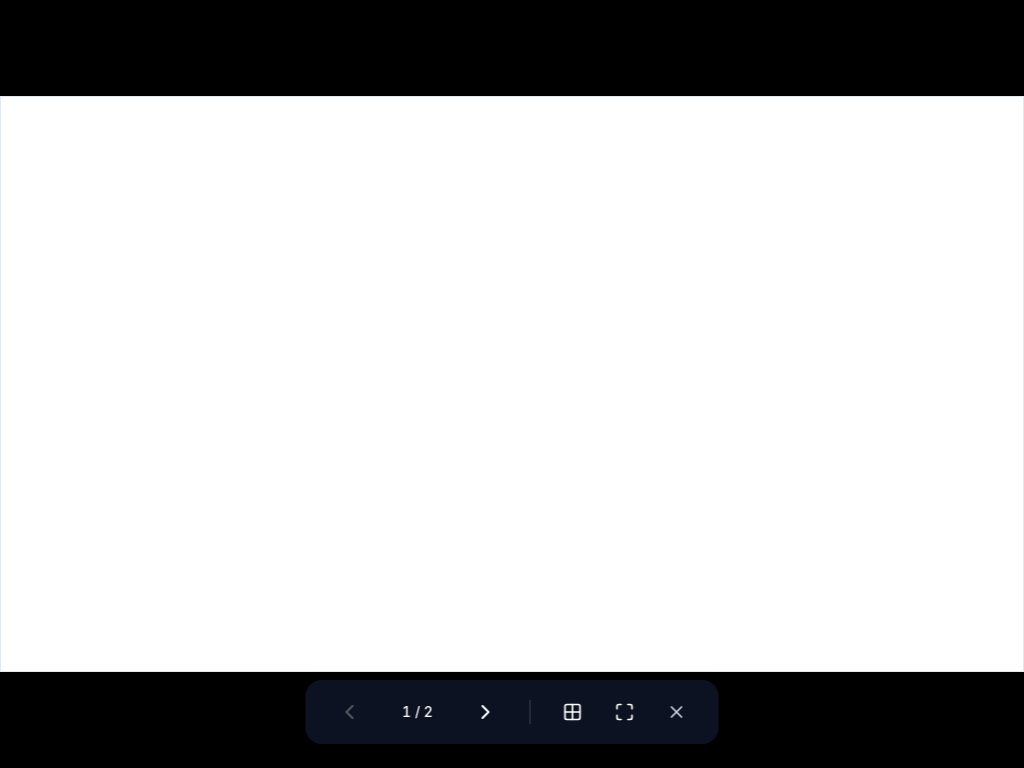
it: PresentationMode › opens the slide overview and navigates from it
Click the button named "Open slide overview" at point(572, 712), box [554,694,590,730]
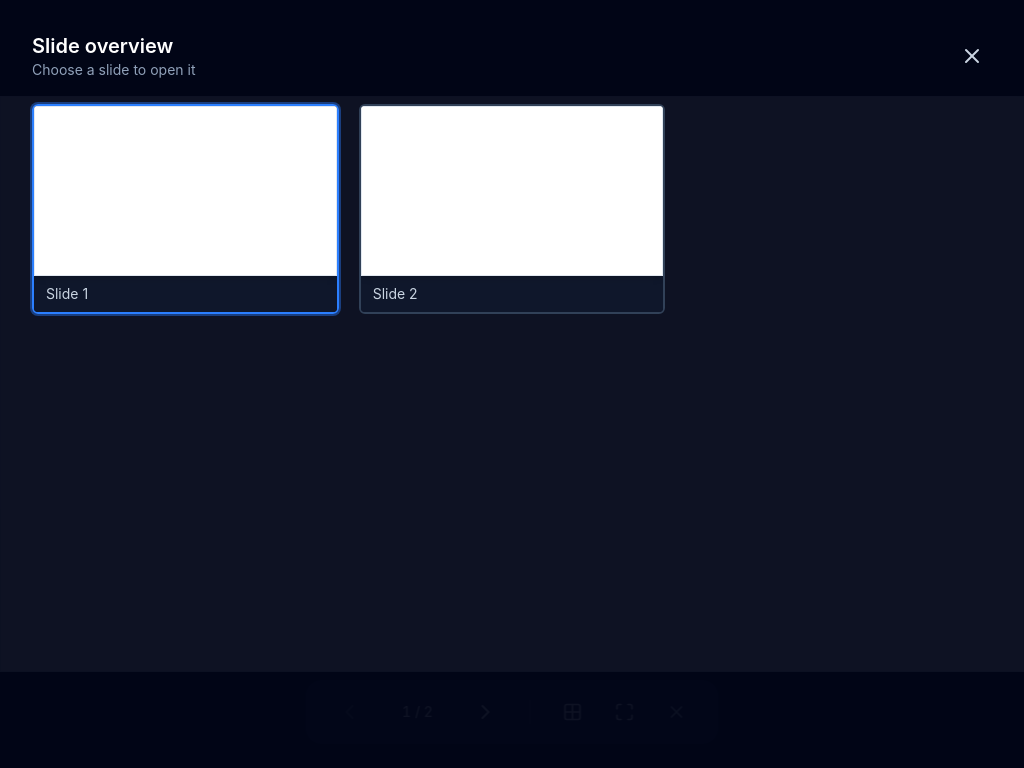
Now the dialog "Slide overview" is shown
Click the button with aria-label "Open slide 2" at point(512, 209), box [359,104,665,314]
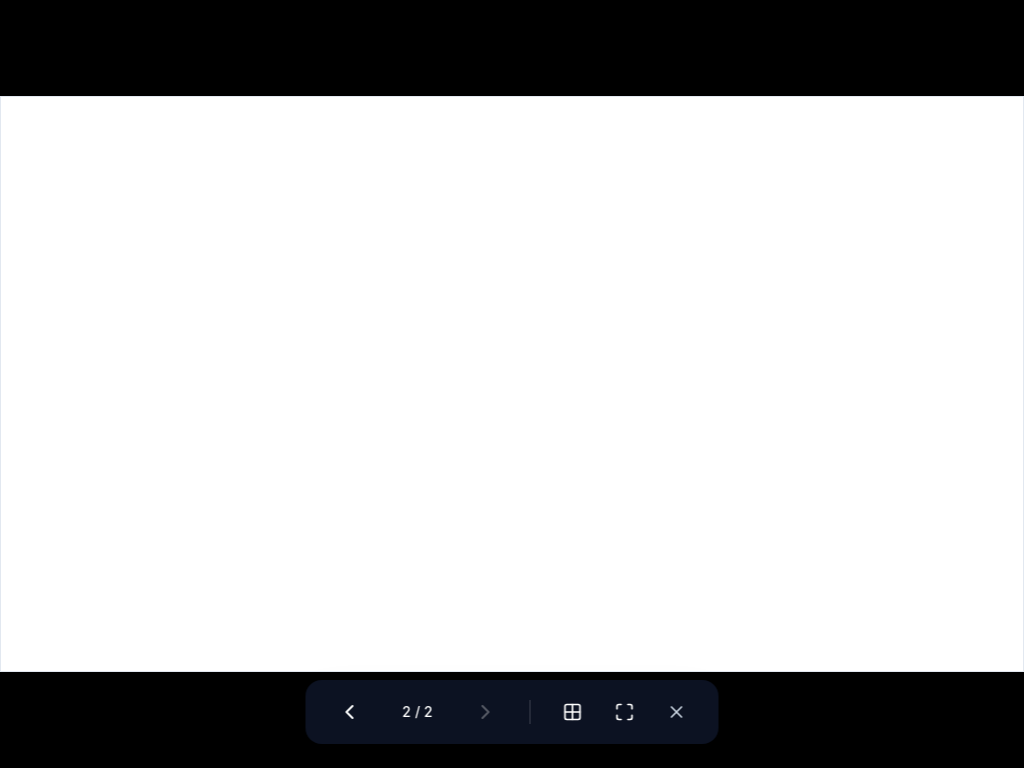
Now the heading "Slide overview" is gone
Now the text "2 / 2" is shown, box [402,703,433,720]
